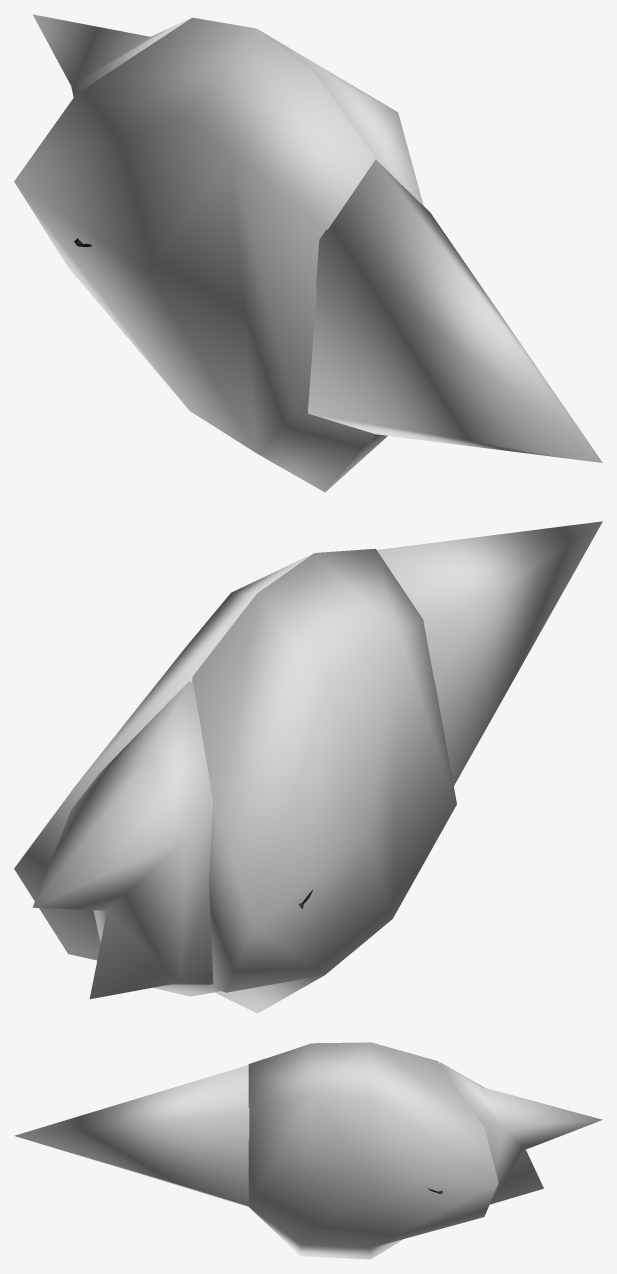
File: ShipD0601f.FBX
The picture shows the model from 3 angles, top to bottom: view 1: azimuth 30°, elevation 25°; view 2: azimuth 150°, elevation 25°; view 3: azimuth 270°, elevation 25°; orthographic projection. The views are drawn at different scales.
Parts seen in each view (by area): view 1: ship_4, ship_1, ship_3, ship_2; view 2: ship_4, ship_2, ship_1, ship_3; view 3: ship_3, ship_1, ship_2.
Boxes of the visible parts, box(x1,y1,x2,y2) form: ship_4: box(14, 17, 375, 492); ship_1: box(307, 159, 602, 462); ship_3: box(258, 29, 423, 491); ship_2: box(32, 14, 190, 97); ship_4: box(192, 548, 456, 1013); ship_2: box(32, 681, 221, 998); ship_1: box(377, 521, 602, 785); ship_3: box(14, 553, 313, 960); ship_3: box(248, 1042, 498, 1259); ship_1: box(14, 1065, 249, 1206); ship_2: box(440, 1062, 602, 1204).
Bounding box in the file's own units: 23.4 × 39.33 × 96.69.
